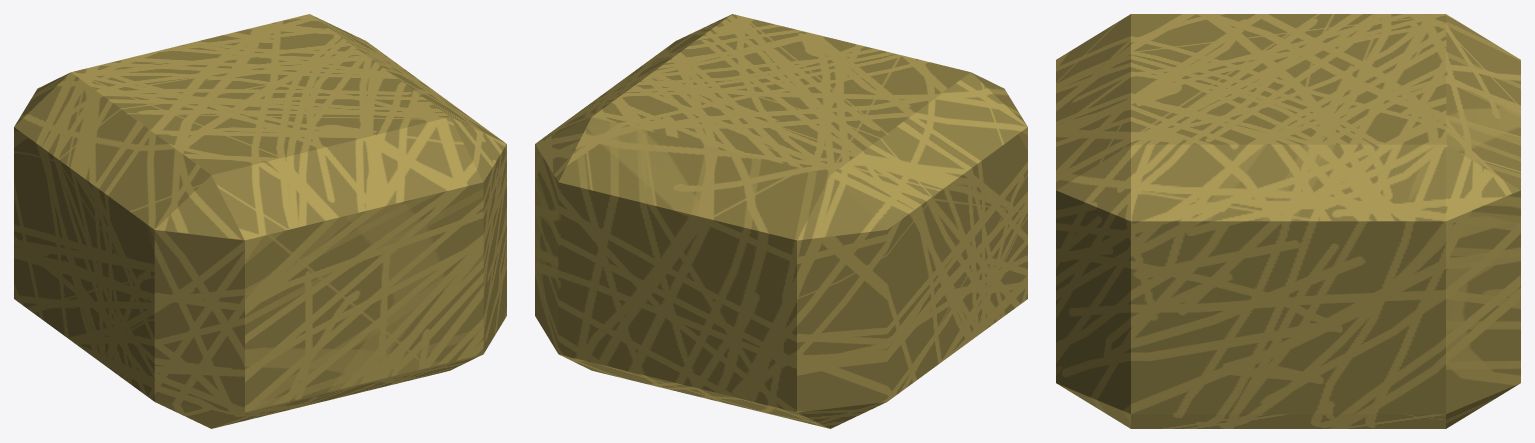
File: HayBale.fbx
3 views of the same model, side by side, from view 1: azimuth 30°, elevation 25°; view 2: azimuth 150°, elevation 25°; view 3: azimuth 270°, elevation 25° (orthographic). The views are drawn at different scales.
Visible parts, largest first — view 1: Cube; view 2: Cube; view 3: Cube.
Boxes of the visible parts, bbox=[...] form: Cube: bbox=[14, 14, 506, 428]; Cube: bbox=[535, 14, 1027, 428]; Cube: bbox=[1056, 14, 1520, 428].
Bounding box in the file's own units: 336 × 231 × 343.
Materials: 1 (1 with a texture image).
